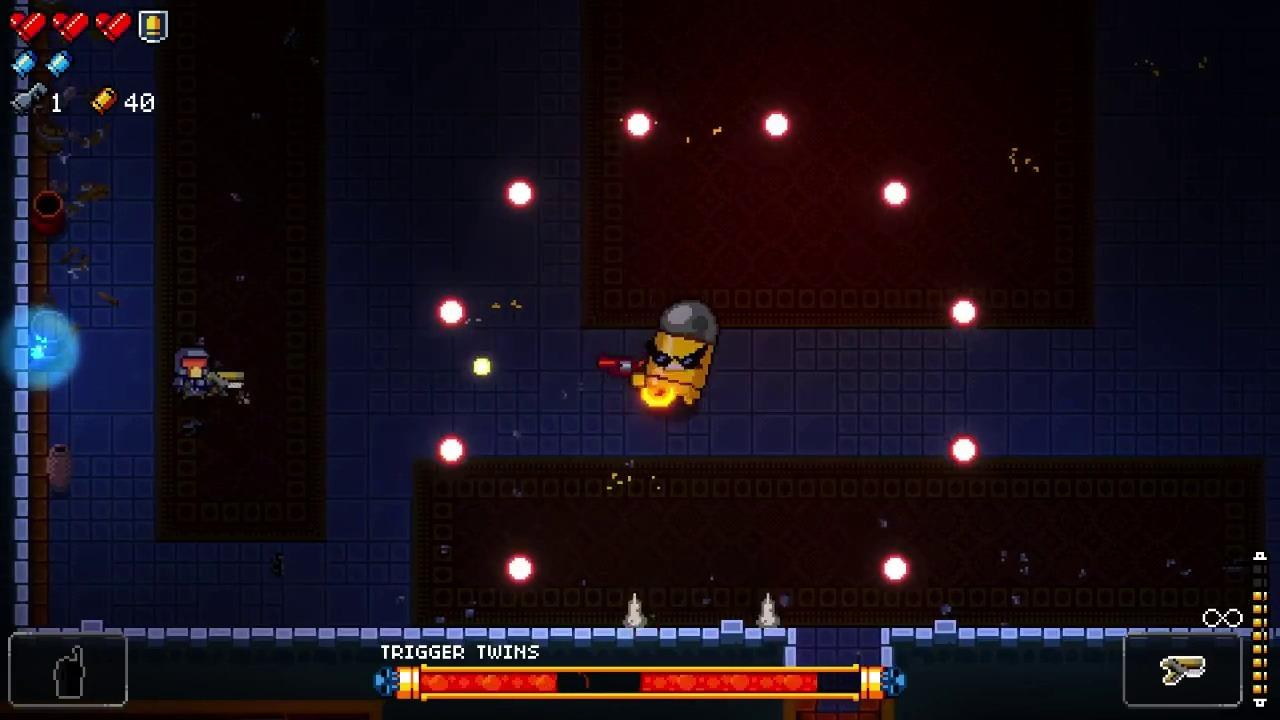boss_shades: (645, 299, 717, 406)
bullet: (945, 295, 979, 329), (878, 177, 911, 210), (948, 434, 981, 466), (623, 108, 654, 141), (437, 434, 465, 469), (436, 296, 466, 328), (762, 110, 790, 143), (505, 552, 534, 583), (507, 181, 539, 209), (882, 554, 910, 583)
player: (174, 347, 210, 401)
